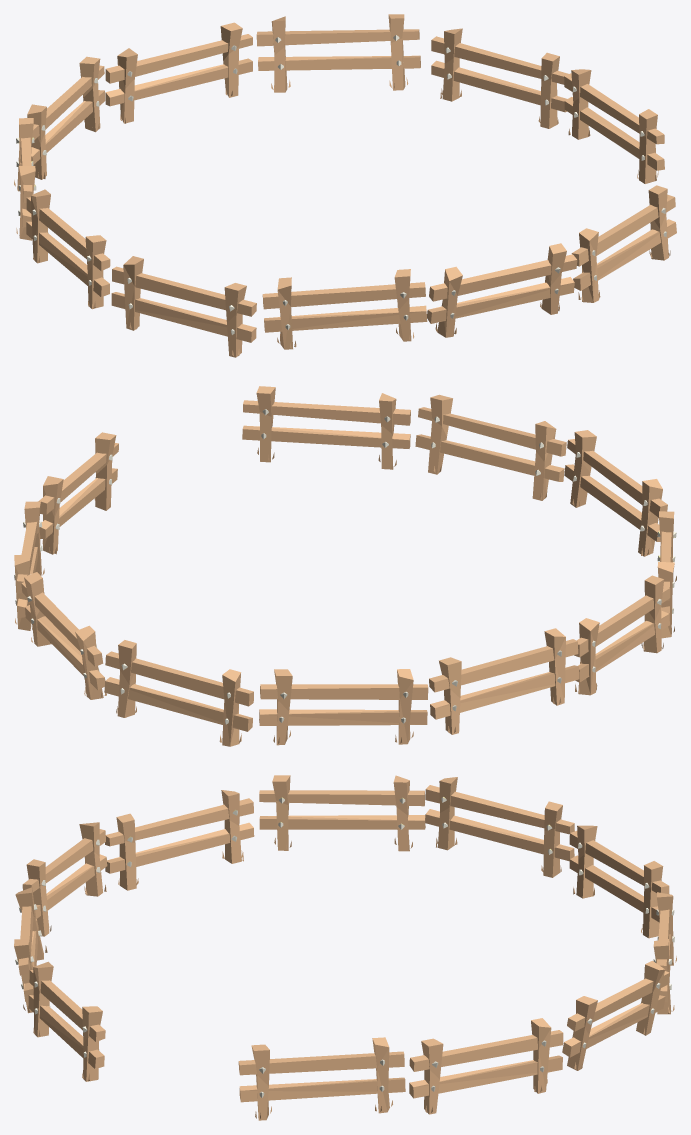
File: fence-orange.gltf
3 views of the same model, one above another, from view 1: azimuth 30°, elevation 25°; view 2: azimuth 150°, elevation 25°; view 3: azimuth 270°, elevation 25° (orthographic). The views are drawn at different scales.
Visible parts, largest first — view 1: Cube.051, Cube.053, Cube.052, Cube.056, Cube.057, Cube.058, Cube.060, Cube.059, Cube.061, Cube.054, Cube.055; view 2: Cube.054, Cube.056, Cube.055, Cube.060, Cube.053, Cube.051, Cube.061, Cube.059, Cube.057, Cube.058, Cube.052; view 3: Cube.059, Cube.058, Cube.061, Cube.055, Cube.052, Cube.057, Cube.054, Cube.060, Cube.051, Cube.053, Cube.056.
Part boxes in pixels (<box>): Cube.051: <box>262,269,427,349</box>; Cube.053: <box>427,243,577,337</box>; Cube.052: <box>111,256,256,357</box>; Cube.056: <box>105,22,252,123</box>; Cube.057: <box>256,14,420,92</box>; Cube.058: <box>431,28,568,128</box>; Cube.060: <box>571,185,676,302</box>; Cube.059: <box>564,69,664,183</box>; Cube.061: <box>26,189,110,309</box>; Cube.054: <box>27,56,105,179</box>; Cube.055: <box>14,118,36,240</box>; Cube.054: <box>259,669,428,745</box>; Cube.056: <box>104,640,253,746</box>; Cube.055: <box>429,628,579,734</box>; Cube.060: <box>242,386,410,469</box>; Cube.053: <box>415,394,566,500</box>; Cube.051: <box>564,430,667,556</box>; Cube.061: <box>574,575,670,695</box>; Cube.059: <box>39,432,118,554</box>; Cube.057: <box>21,572,106,699</box>; Cube.058: <box>14,501,44,630</box>; Cube.052: <box>657,511,676,638</box>; Cube.059: <box>238,1037,405,1120</box>; Cube.058: <box>409,1018,563,1114</box>; Cube.061: <box>259,775,425,851</box>; Cube.055: <box>425,777,574,877</box>; Cube.052: <box>105,790,254,890</box>; Cube.057: <box>562,960,669,1070</box>; Cube.054: <box>569,825,669,938</box>; Cube.060: <box>28,961,105,1081</box>; Cube.051: <box>22,822,107,936</box>; Cube.053: <box>14,887,47,1013</box>; Cube.056: <box>653,892,676,1014</box>.
Size of the model in its own units: 11.23 by 1.62 by 11.3.
